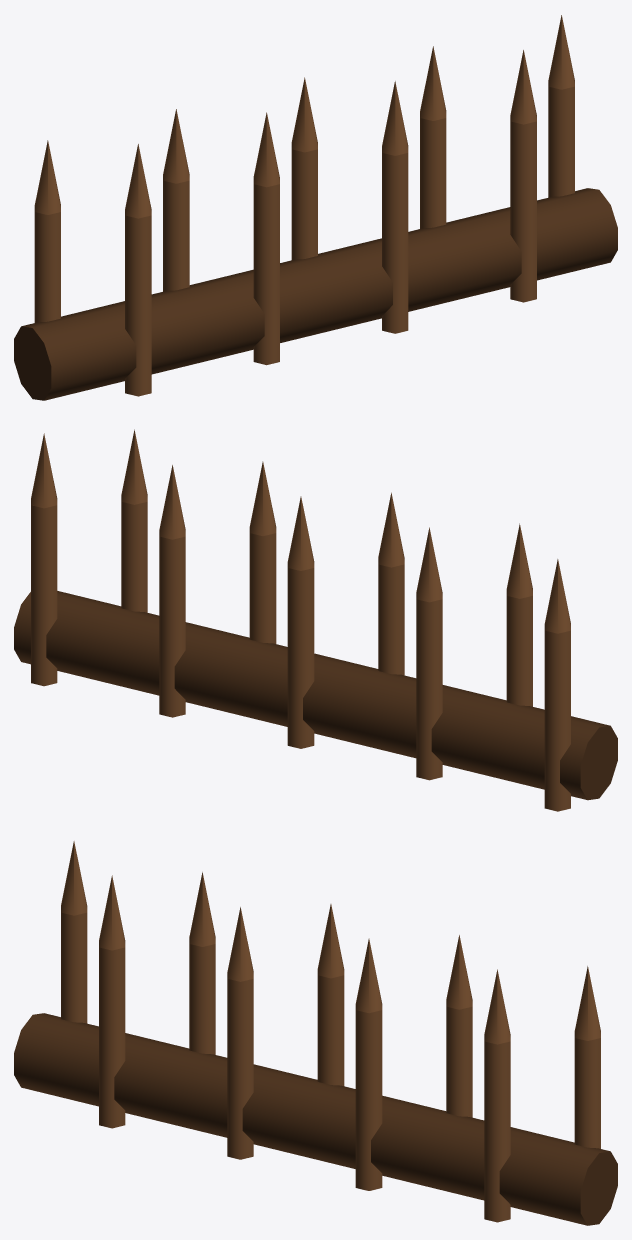
The model's file is im_stakes.glb.
3 views of the same model, one above another, from view 1: azimuth 30°, elevation 25°; view 2: azimuth 150°, elevation 25°; view 3: azimuth 330°, elevation 25° (orthographic).
Parts seen in each view (by area): view 1: im_stakes; view 2: im_stakes; view 3: im_stakes.
Boxes of the visible parts, box(x1,y1,x2,y2) form: im_stakes: box(14, 15, 617, 400); im_stakes: box(14, 429, 617, 811); im_stakes: box(14, 841, 617, 1225).
Size of the model in its own units: 3 by 1.25 by 0.3612.
